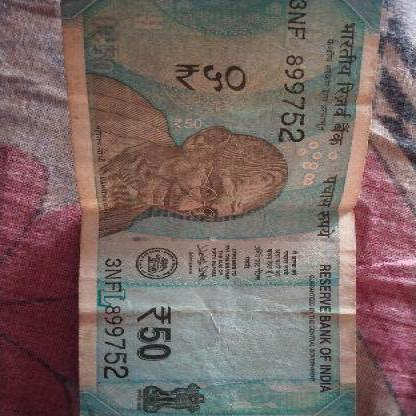New50Front: (56, 4, 354, 416)
